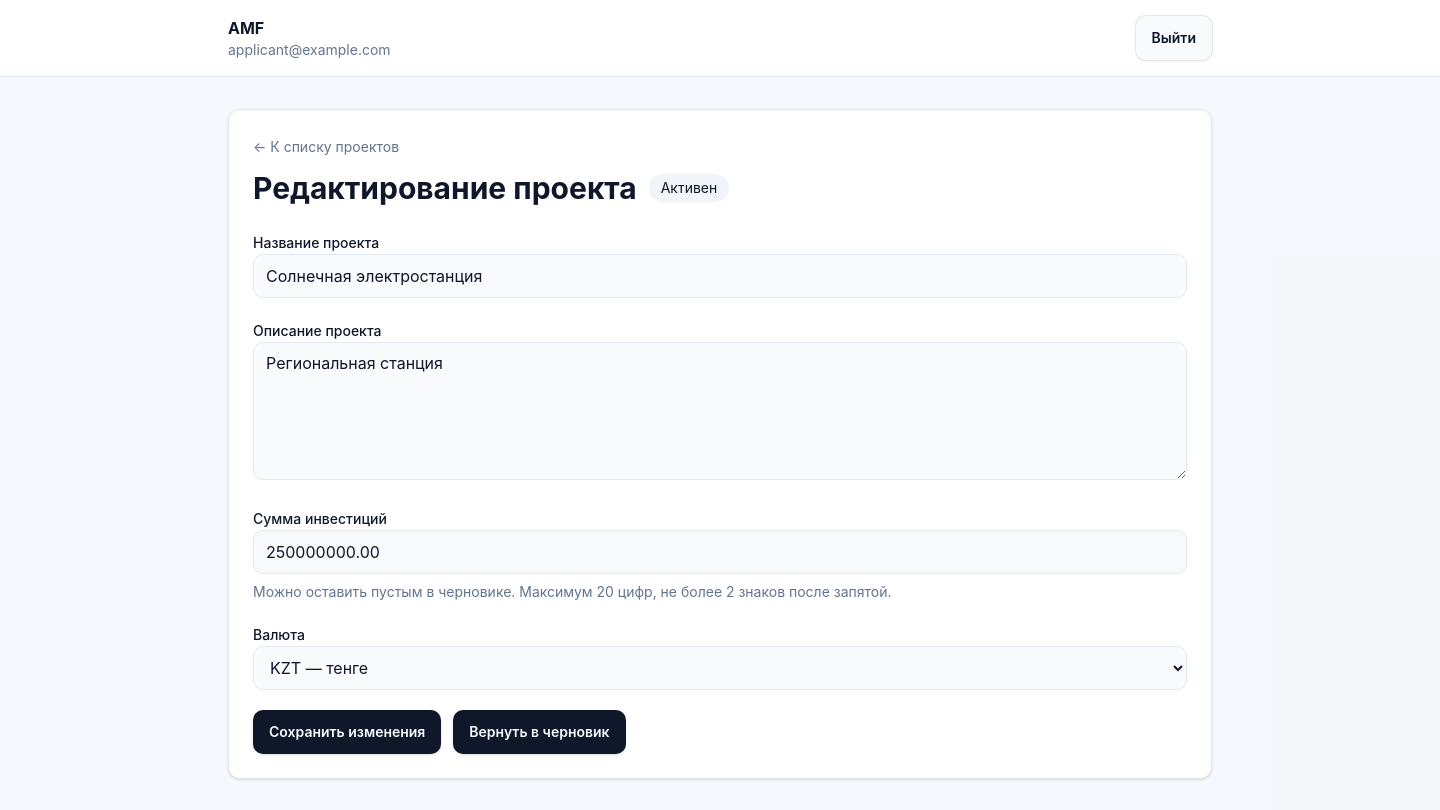
it: project editor › requires saving edits before returning an active project to draft
This screenshot has width=1440, height=810.
Type " обновление" into the field labelled "Название проекта" at {"x": 720, "y": 276}, box [253, 254, 1187, 298]
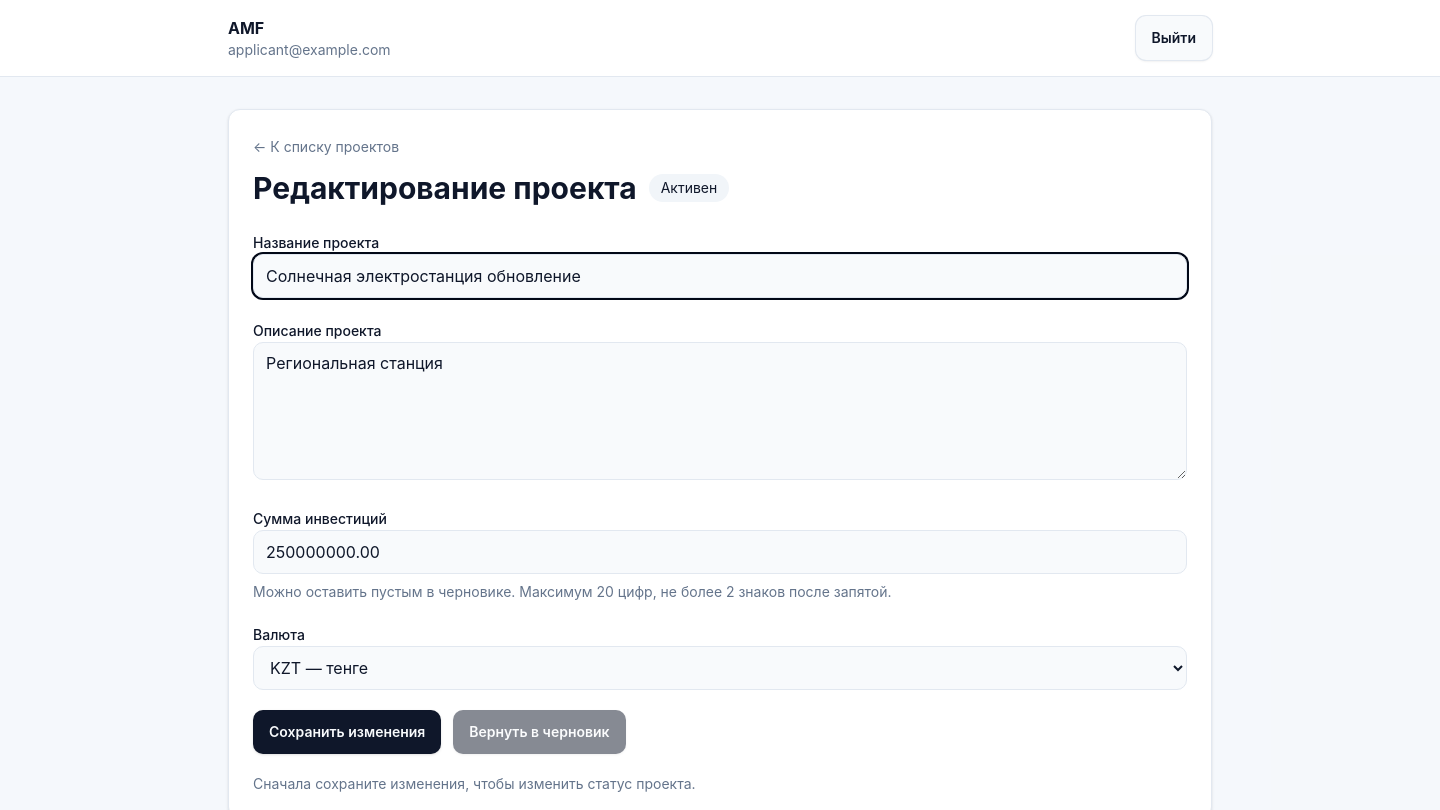
Expected: the button "Вернуть в черновик" is disabled, [453, 710, 626, 754]
Expected: the text "Сначала сохраните изменения, чтобы изменить статус проекта." is shown, [253, 775, 696, 792]
